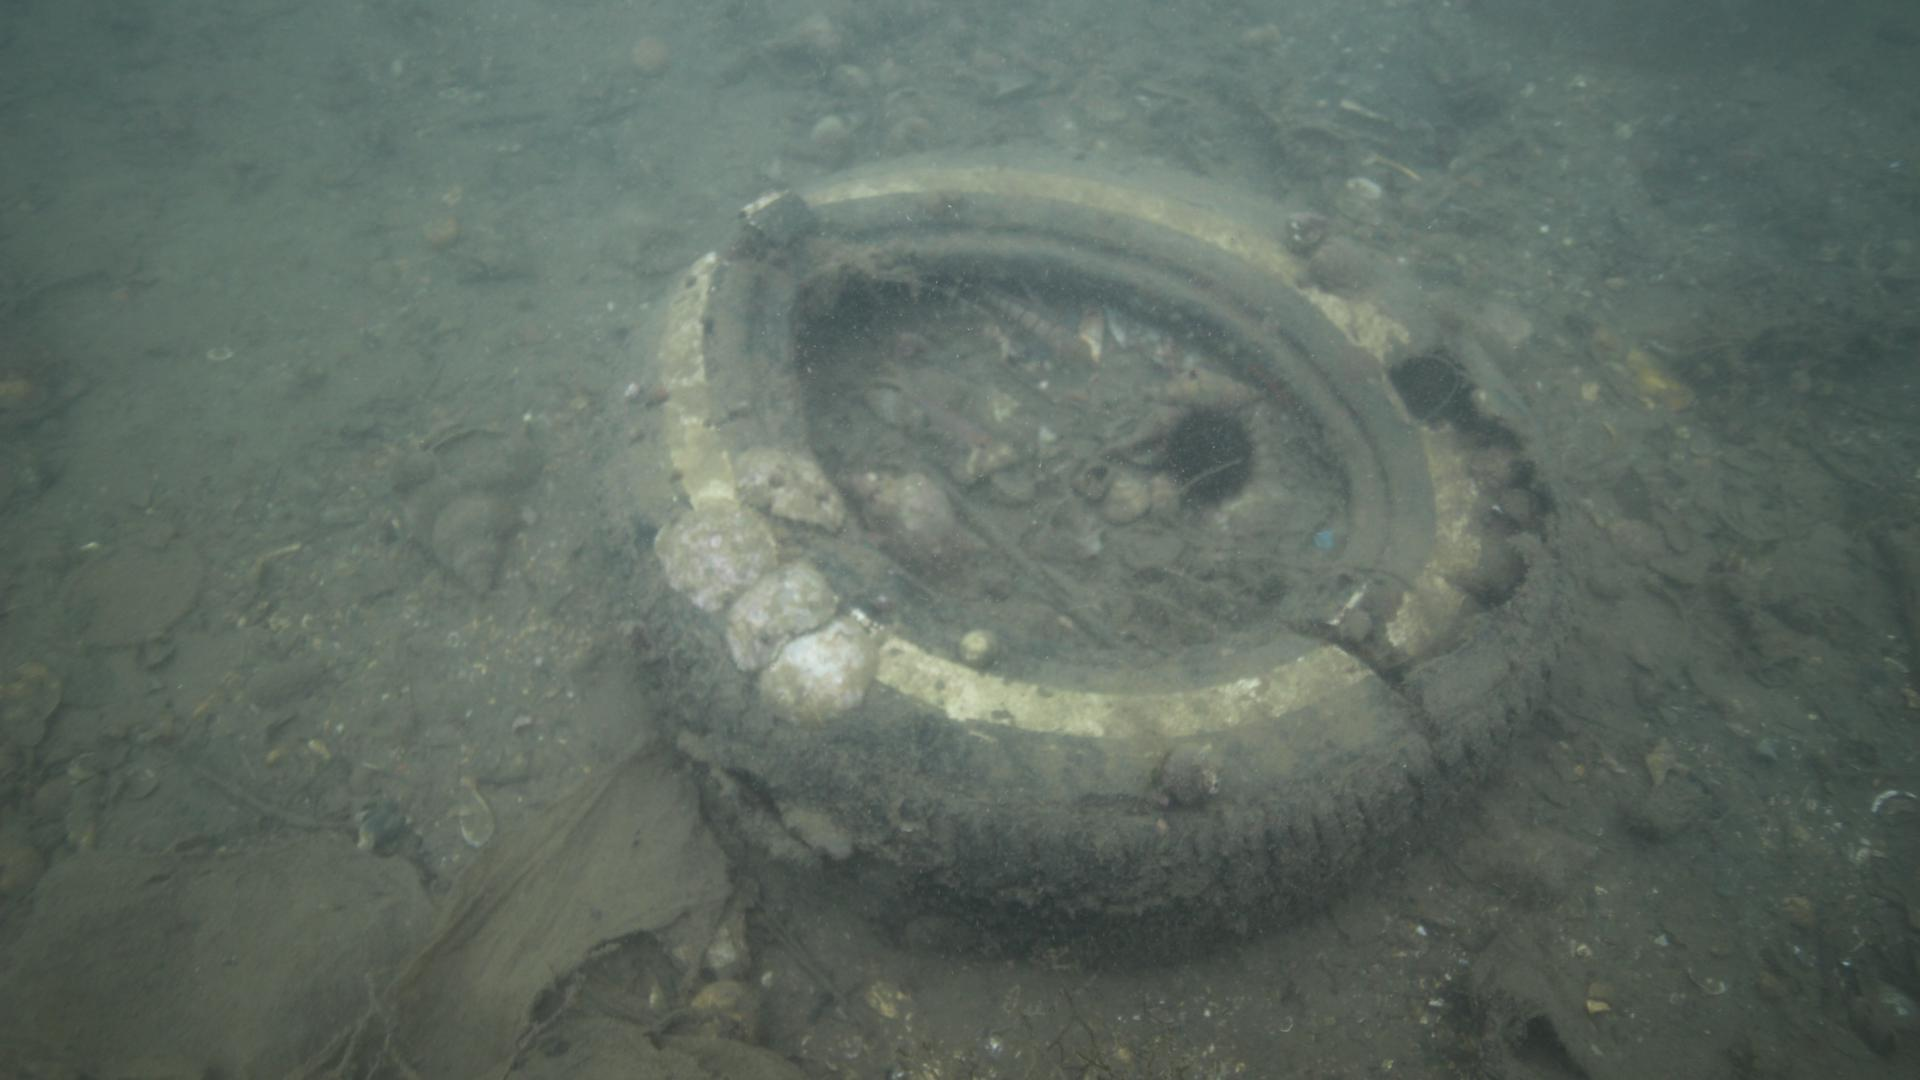tire: (589, 144, 1576, 967)
